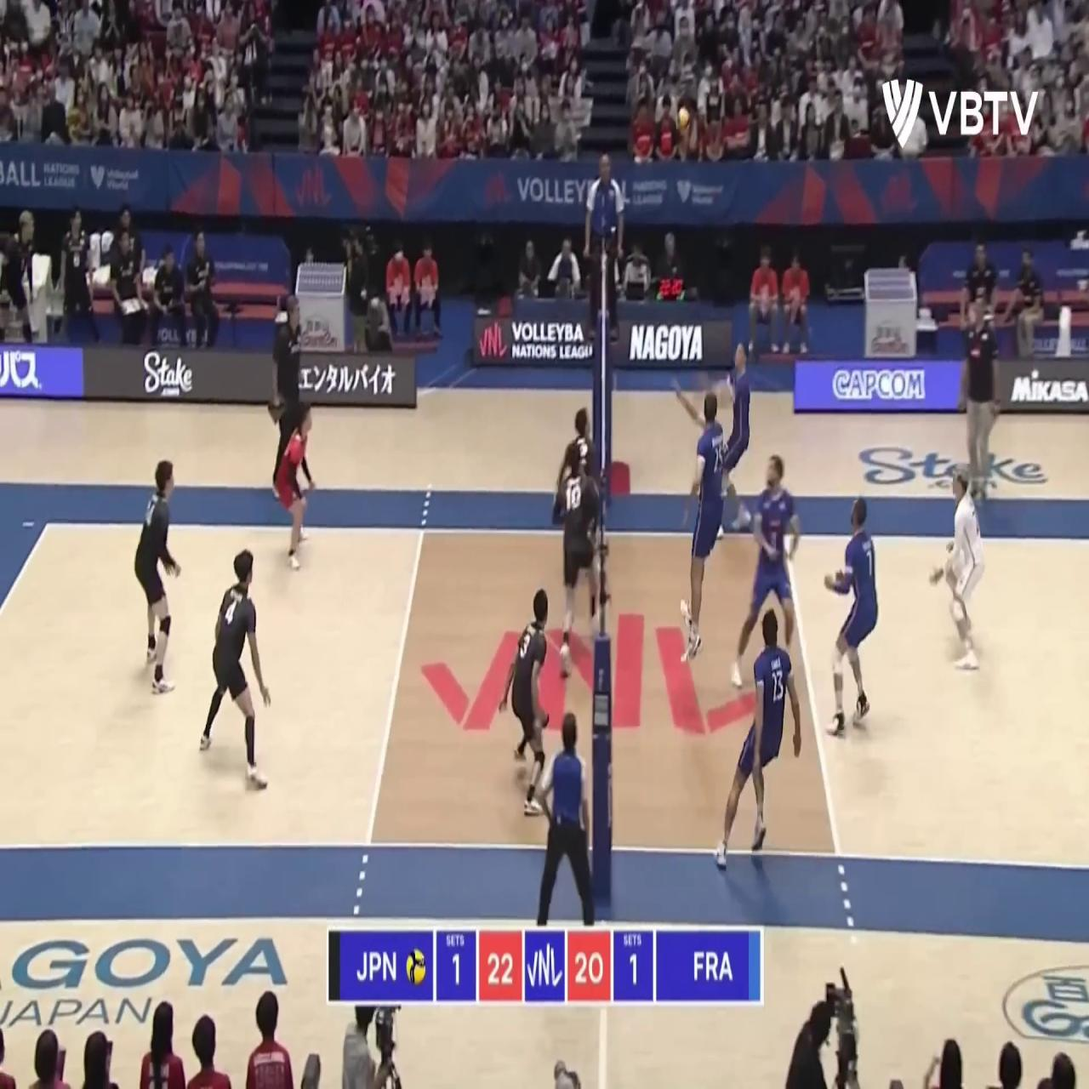ball: (676, 107, 691, 137)
